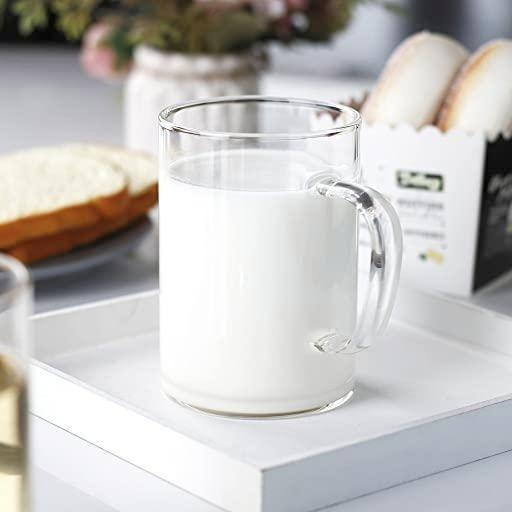glass-mug: (150, 88, 413, 424)
